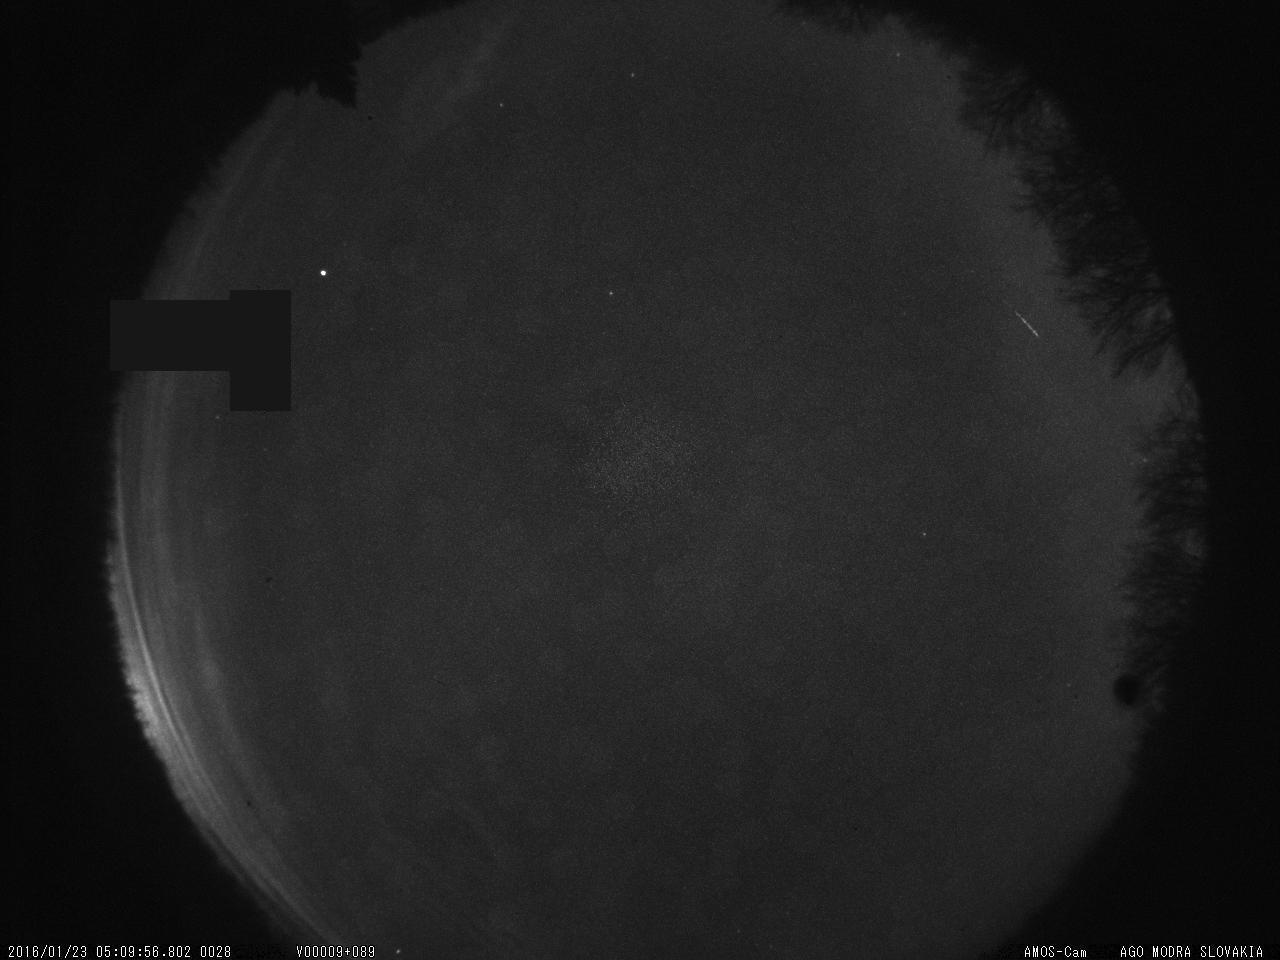Meteor: (1004, 301, 1051, 357)
